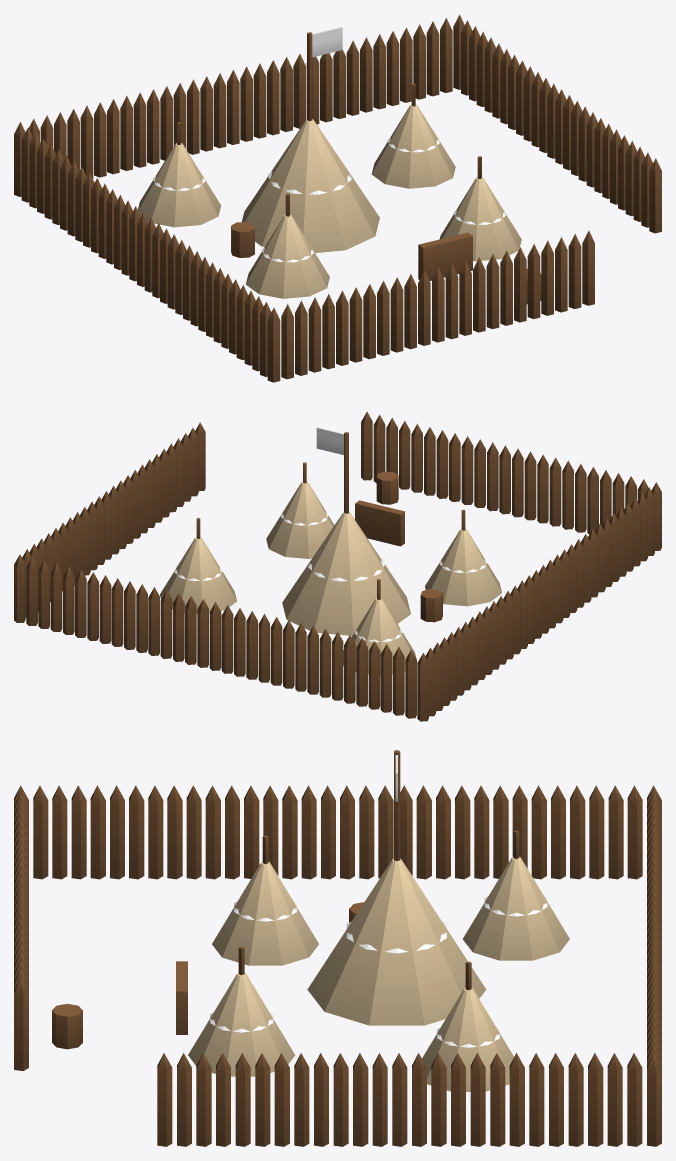
File: CAMP_MA.glb
3 renders of one model, top to bottom at view 1: azimuth 30°, elevation 25°; view 2: azimuth 150°, elevation 25°; view 3: azimuth 270°, elevation 25°, orthographic. The views are drawn at different scales.
Visible parts, largest first — view 1: Body, Flag; view 2: Body, Flag; view 3: Body.
Part boxes in pixels (<box>): Body: <box>14,14,661,382</box>; Flag: <box>312,27,342,57</box>; Body: <box>14,411,661,721</box>; Flag: <box>316,427,343,454</box>; Body: <box>14,750,661,1146</box>.
Bounding box in the file's own units: 5.43 × 2.2 × 5.43.
1 material, 1 textured.
